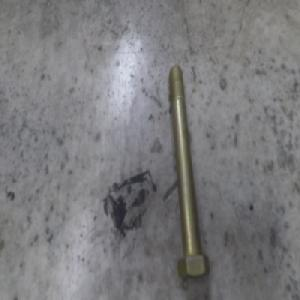Bolt: (168, 63, 211, 279)
